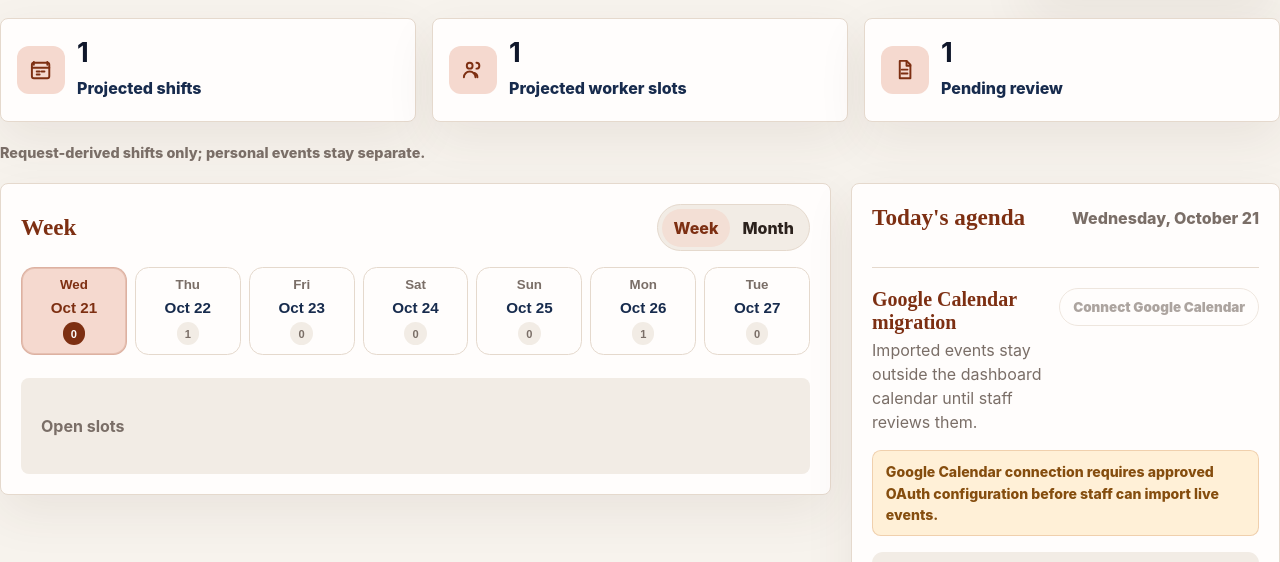
StaffCalendar › normalizes saved legacy weekday events into the current seven-day range
The width and height of the screenshot is (1280, 562).
What coordinates should you click on to do the following:
click the button "Mon Oct 26 1"
I would click on:
 (643, 311)
Its box is top-left (590, 267), bottom-right (696, 355).
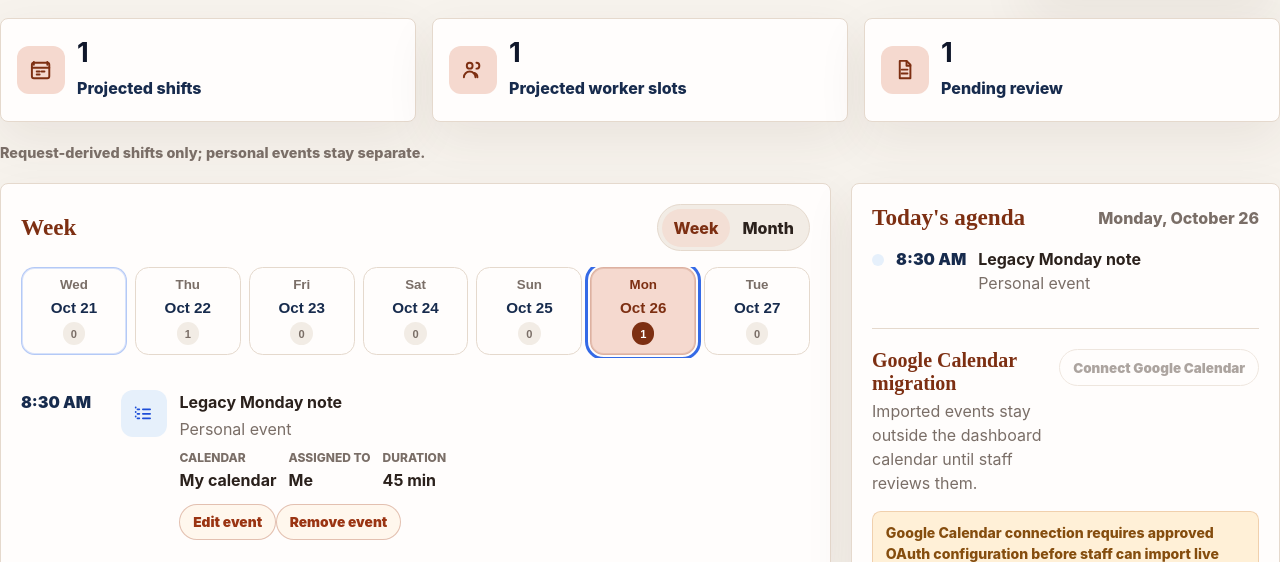
What coordinates should you click on to do the following:
click the button "Edit event"
I would click on:
 (228, 522)
Its box is top-left (179, 504), bottom-right (276, 540).
(page scrolled)
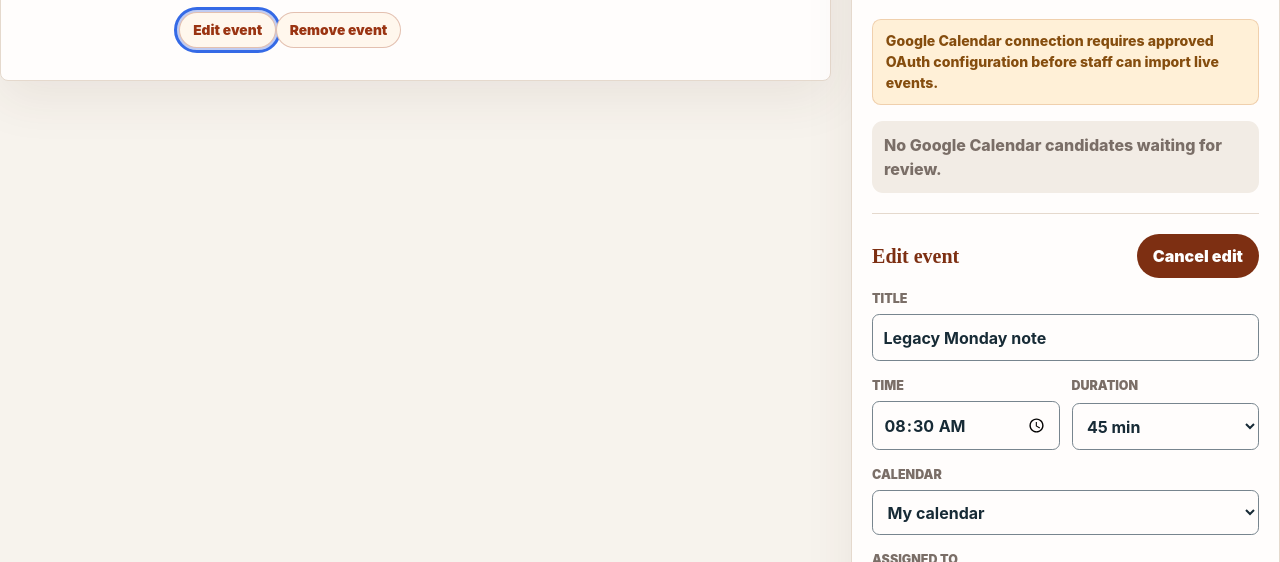
Expected: the heading "Edit event" is shown, top-left (872, 241), bottom-right (959, 271)
What coordinates should you click on to do the following:
click the button "Cancel edit"
I would click on:
 (1198, 256)
Its box is top-left (1137, 234), bottom-right (1259, 278).
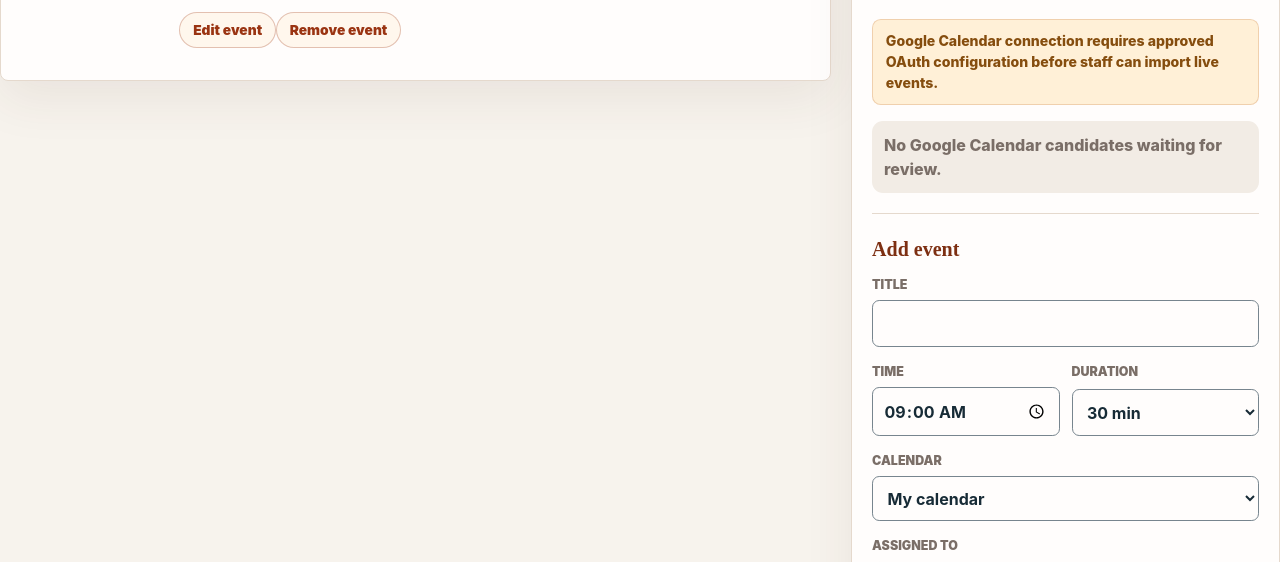
Expected: the heading "Add event" is shown, top-left (872, 234), bottom-right (959, 264)
